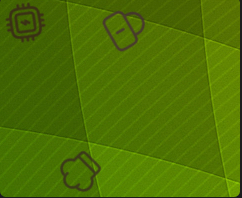chef: (55, 147, 104, 195)
core: (2, 1, 51, 47)
lock: (99, 8, 148, 55)
